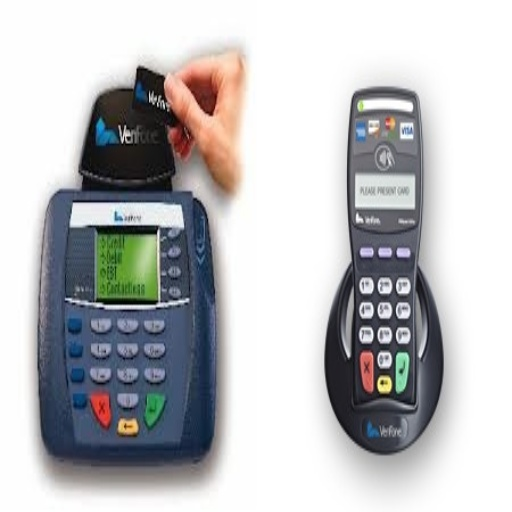hand: (153, 20, 244, 188)
